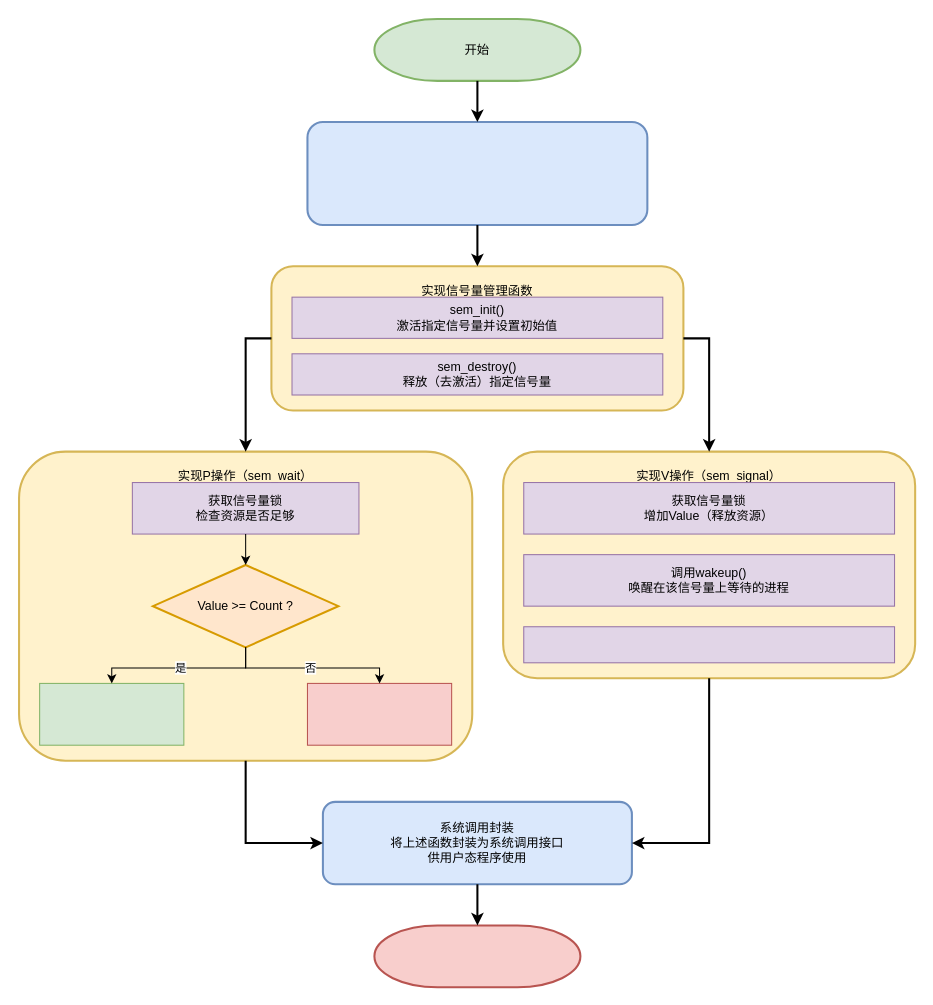
The diagram is 933 pixels wide and 1005 high, and some of its shapes have lost their labels. Each missing label, with the centre of its shape:
定义内核信号量结构 struct semaphore 包含：Value（当前值）、Lock（自旋锁）、 Active（激活状态） 初始化全局信号量数组: the point at 477,173
扣减Value 释放锁 返回: the point at 111,713
结束: the point at 477,956
调用sleep()使进程阻塞 暂时释放锁 等待被唤醒后重新检查: the point at 379,713
释放锁，返回: the point at 709,644
